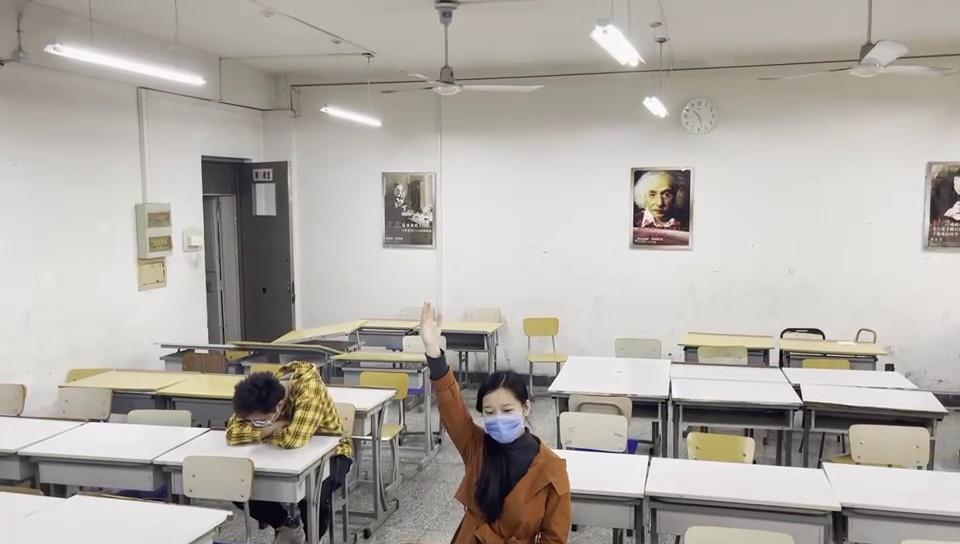sleep: (227, 361, 338, 449)
study: (422, 301, 570, 543)
